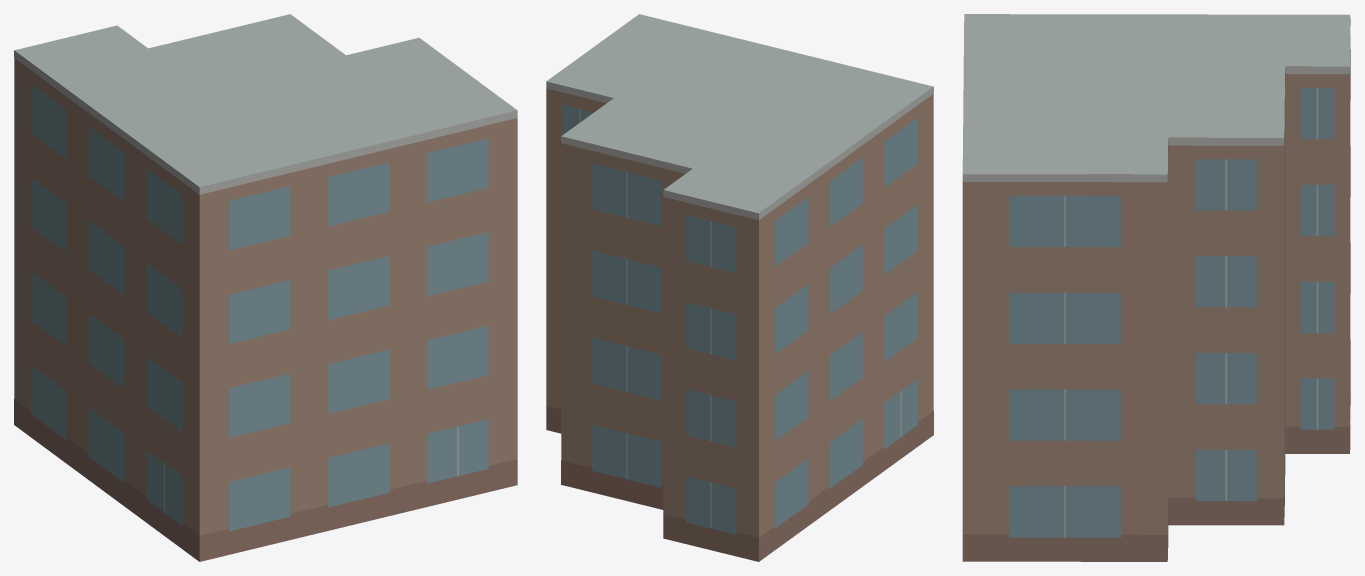
The model's file is residential-05aec7cc-2c63-4cec-9d38-ec6f8c9349b2.glb.
The picture shows the model from 3 angles, left to right: view 1: azimuth 30°, elevation 25°; view 2: azimuth 150°, elevation 25°; view 3: azimuth 270°, elevation 25°; orthographic projection. The views are drawn at different scales.
Parts seen in each view (by area): view 1: residential-05aec7cc-2c63-4cec-9d38-ec6f8c9349b2.tmp; view 2: residential-05aec7cc-2c63-4cec-9d38-ec6f8c9349b2.tmp; view 3: residential-05aec7cc-2c63-4cec-9d38-ec6f8c9349b2.tmp.
Boxes of the visible parts, x1,y1,x2,y2 form: residential-05aec7cc-2c63-4cec-9d38-ec6f8c9349b2.tmp: [14, 14, 517, 561]; residential-05aec7cc-2c63-4cec-9d38-ec6f8c9349b2.tmp: [546, 14, 933, 561]; residential-05aec7cc-2c63-4cec-9d38-ec6f8c9349b2.tmp: [962, 14, 1350, 561].
Size of the model in its own units: 10.85 by 12.2 by 11.08.
